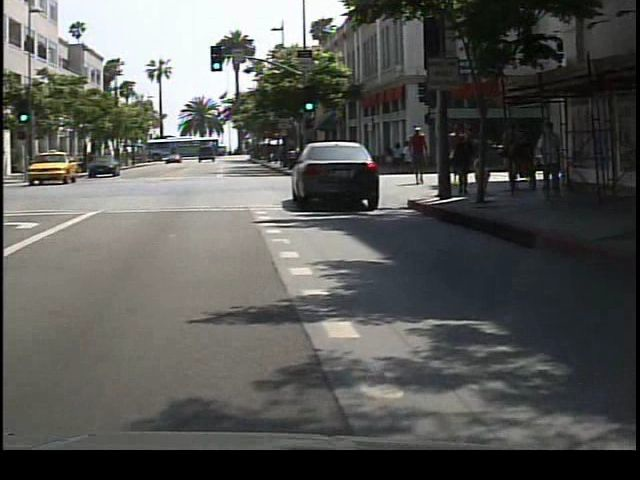person: (410, 124, 437, 189)
